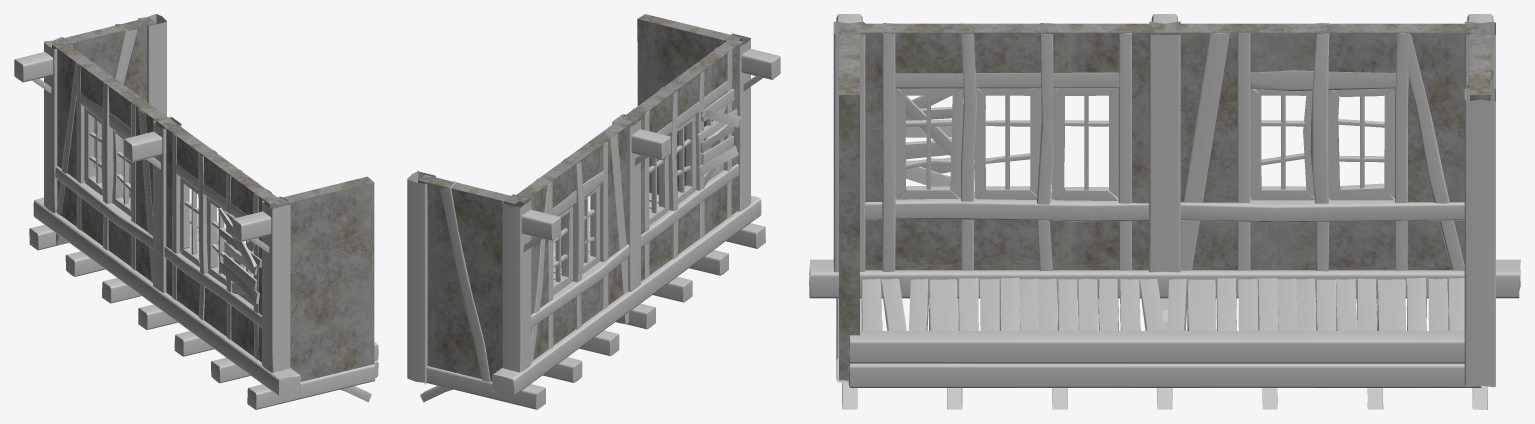
Rendered from SM_Extension03.fbx.
3 views of the same model, side by side, from view 1: azimuth 30°, elevation 25°; view 2: azimuth 150°, elevation 25°; view 3: azimuth 270°, elevation 25° (orthographic). The views are drawn at different scales.
Visible parts, largest first — view 1: SM_Extension03_LOD0; view 2: SM_Extension03_LOD0; view 3: SM_Extension03_LOD0.
Part boxes in pixels (x1,y1,x2,y2): SM_Extension03_LOD0: [14, 14, 378, 409]; SM_Extension03_LOD0: [407, 14, 780, 409]; SM_Extension03_LOD0: [809, 14, 1520, 409].
Bounding box in the file's own units: 228 × 677 × 337.
